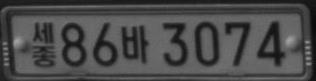0: (193, 21, 219, 66)
3: (162, 21, 189, 67)
4: (256, 20, 285, 66)
6: (92, 21, 118, 66)
7: (224, 21, 252, 65)
8: (60, 21, 87, 67)
바: (120, 24, 150, 64)
세종_V: (31, 21, 56, 68)
